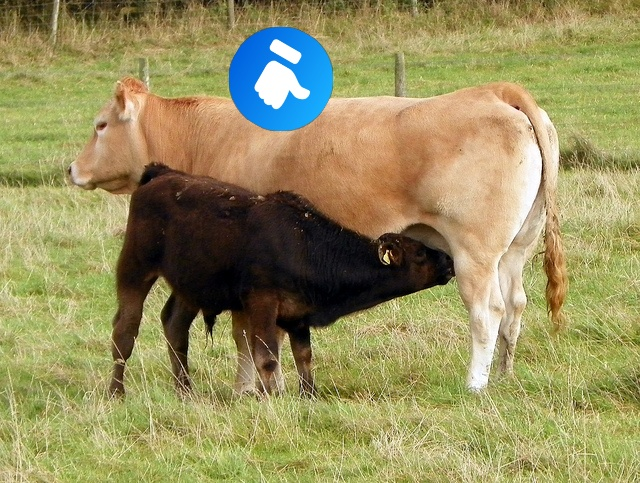like: (229, 27, 333, 131)
